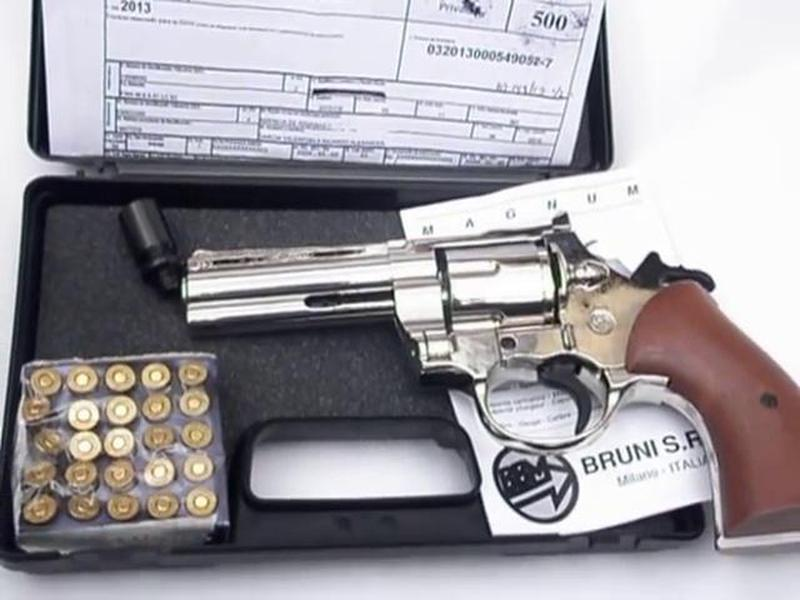Revolver: (174, 235, 800, 450)
